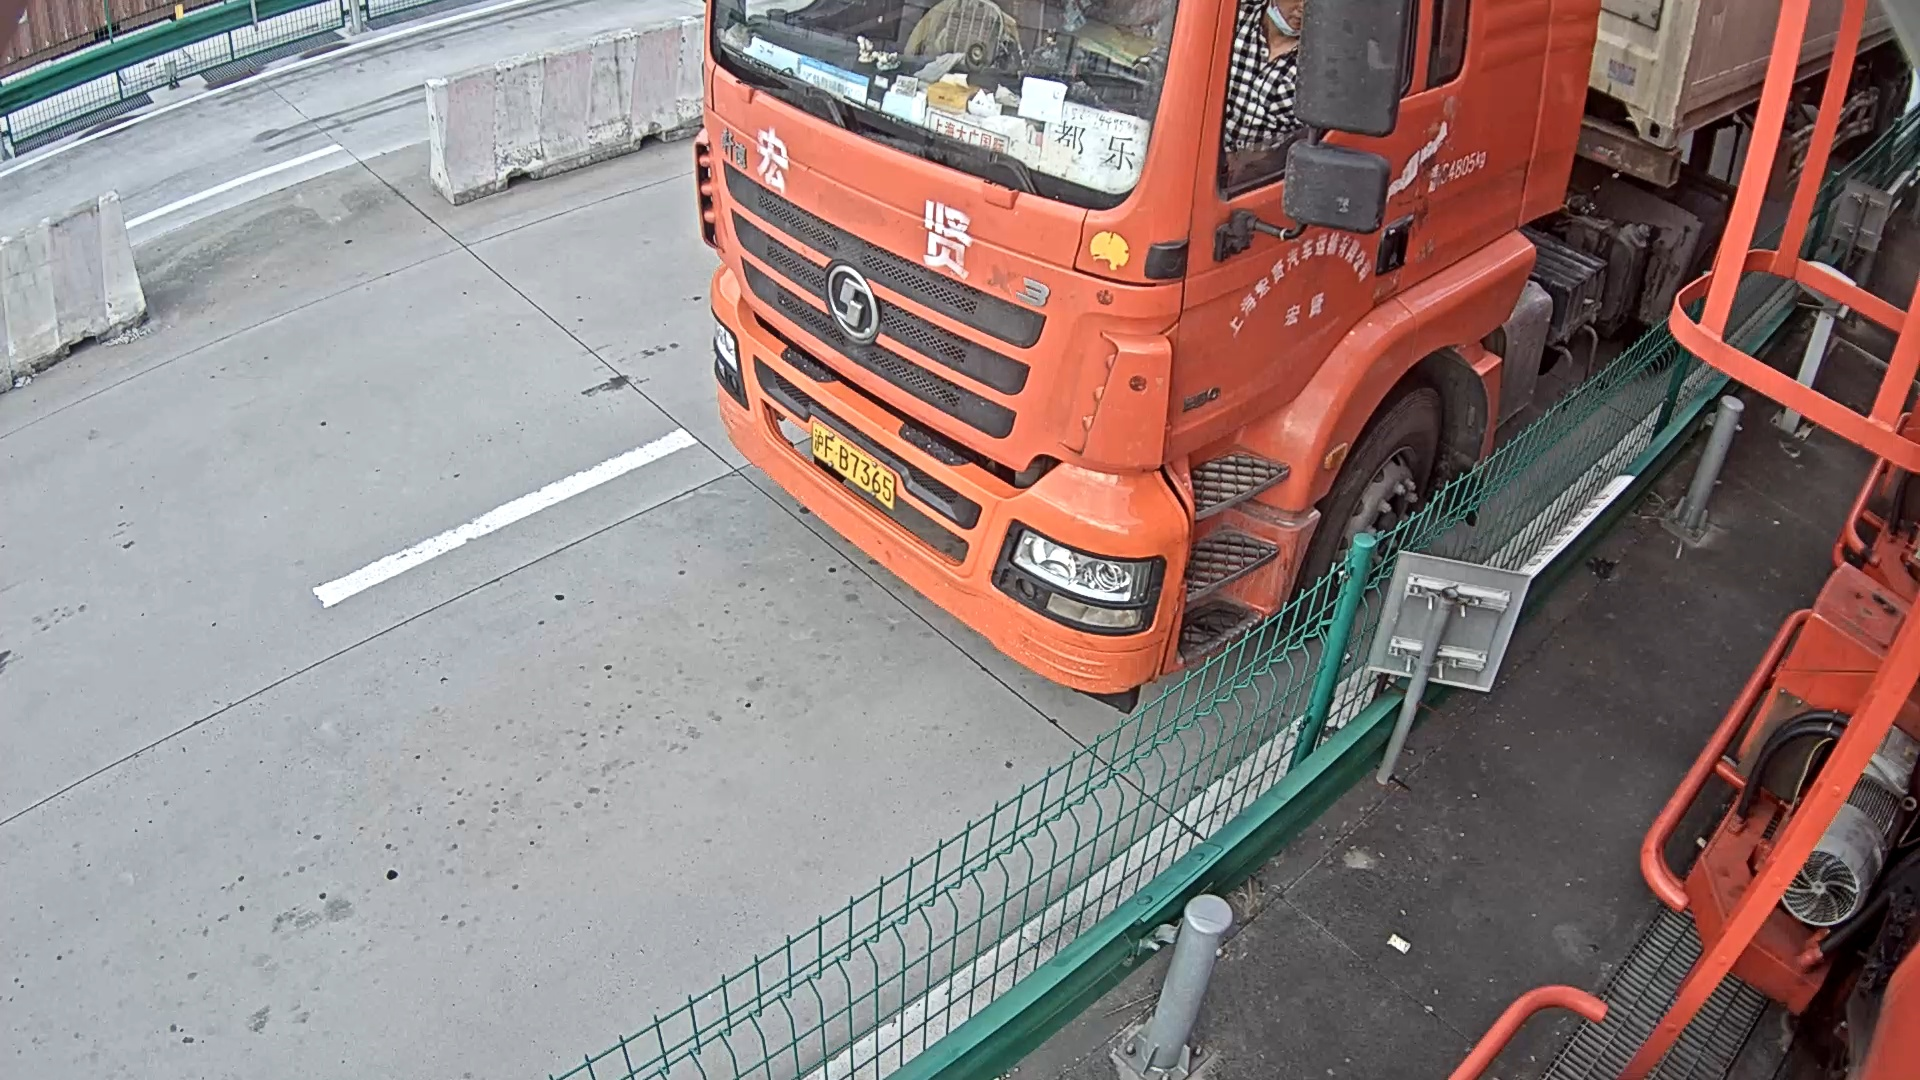head: (684, 1, 1605, 694)
plate: (813, 423, 893, 509)
